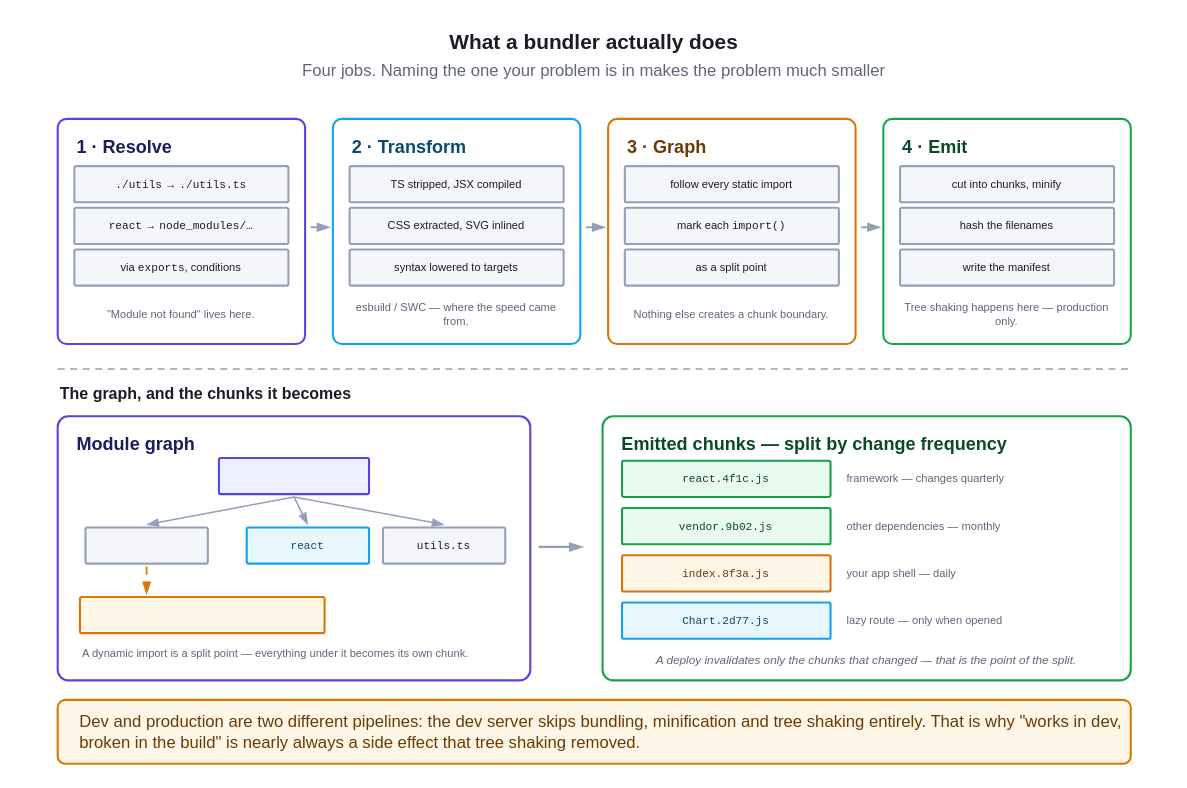
Some shapes in this 1187 by 788 pixel diagram are drawn without their labels. Here are the shapes that lost their labels. From the top down, the centre of each, then its label:
point (293, 475): main.tsx
point (146, 545): App.tsx
point (201, 614): import("./Chart")
